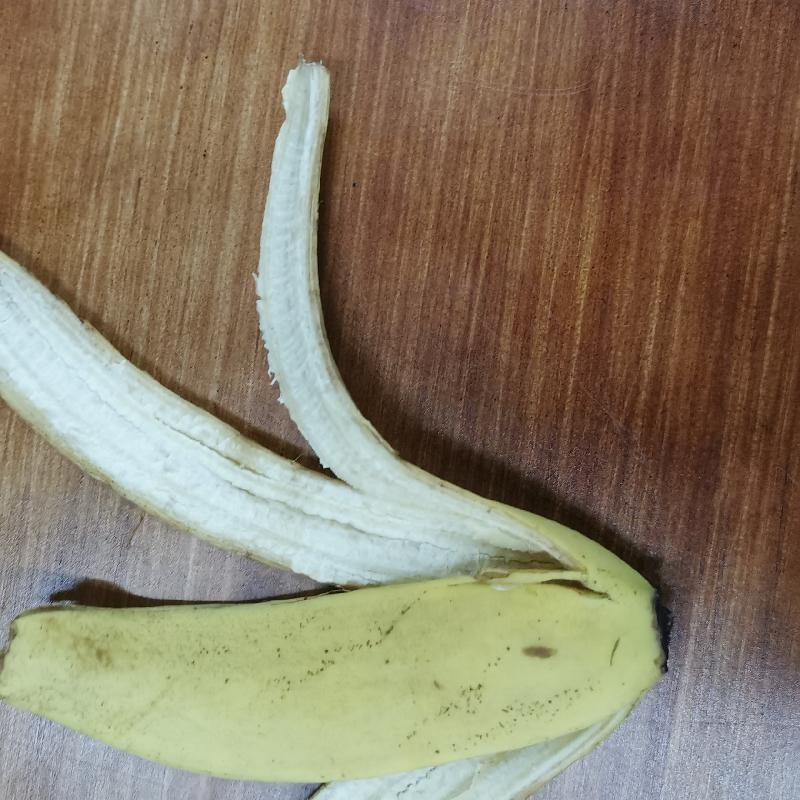bananas: (6, 63, 675, 800)
